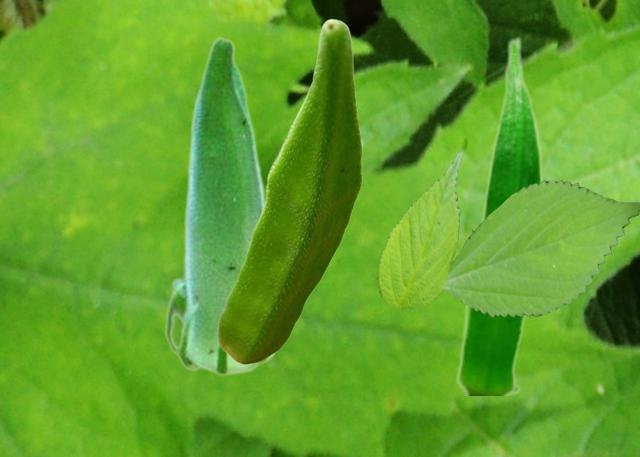okra: (217, 18, 361, 363), (164, 36, 282, 376), (456, 35, 543, 394)
